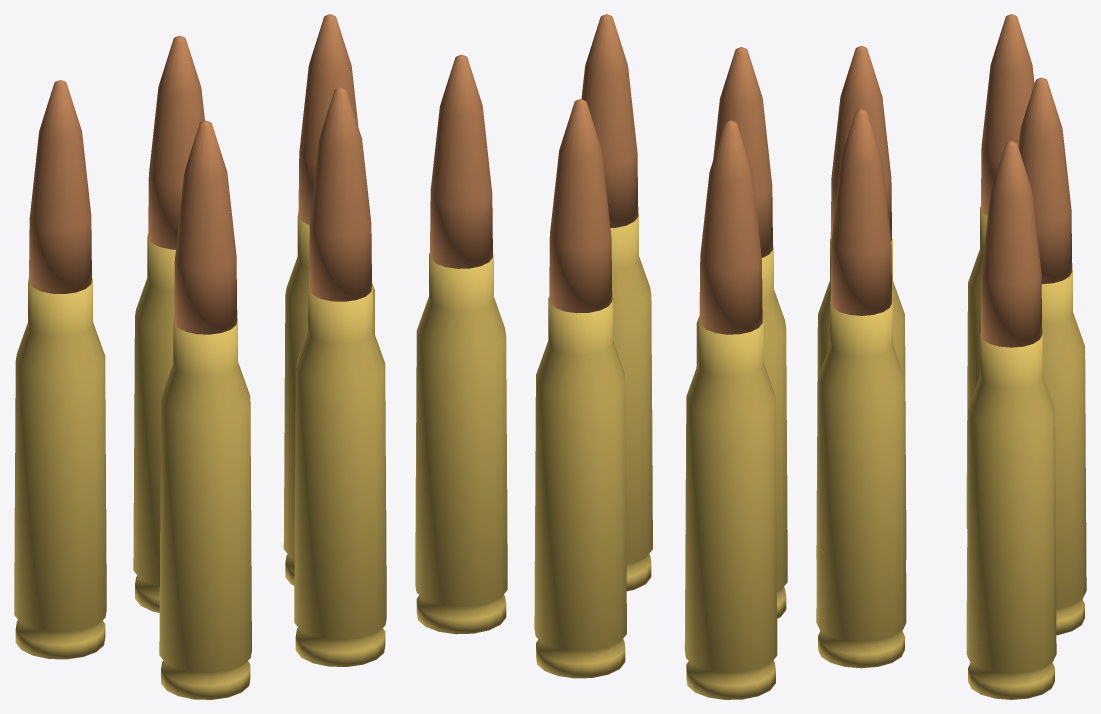
Rendered from rounds.glb.
3 views of the same model, side by side, from view 1: azimuth 30°, elevation 25°; view 2: azimuth 150°, elevation 25°; view 3: azimuth 270°, elevation 25° (orthographic). The views are drawn at different scales.
Visible parts, largest first — view 1: case.004, case, case.003, case.001, bullet.003, bullet.004, bullet, bullet.001, bullet.002, case.002; view 2: case.002, case, case.001, case.004, bullet, bullet.001, bullet.002, bullet.004, bullet.003, case.003; view 3: case.004, case.002, case.001, bullet.002, bullet.004, bullet.001, bullet, bullet.003, case, case.003.
Part boxes in pixels (left/top/right/bottom): case.004: left=294, top=286, right=386, bottom=666; case: left=14, top=278, right=106, bottom=659; case.003: left=159, top=318, right=251, bottom=699; case.001: left=133, top=233, right=175, bottom=612; bullet.003: left=174, top=120, right=237, bottom=334; bullet.004: left=309, top=87, right=371, bottom=301; bullet: left=29, top=80, right=91, bottom=293; bullet.001: left=148, top=35, right=204, bottom=249; bullet.002: left=298, top=14, right=358, bottom=224; case.002: left=283, top=212, right=374, bottom=585; case.002: left=415, top=253, right=507, bottom=634; case: left=684, top=319, right=777, bottom=699; case.001: left=534, top=297, right=626, bottom=678; case.004: left=610, top=213, right=652, bottom=591; bullet: left=699, top=120, right=762, bottom=334; bullet.001: left=549, top=99, right=612, bottom=313; bullet.002: left=430, top=54, right=492, bottom=268; bullet.004: left=581, top=14, right=638, bottom=227; bullet.003: left=713, top=47, right=772, bottom=257; case.003: left=696, top=245, right=787, bottom=618; case.004: left=816, top=301, right=906, bottom=668; case.002: left=966, top=333, right=1056, bottom=699; case.001: left=1041, top=270, right=1086, bottom=635; bullet.002: left=981, top=141, right=1042, bottom=347; bullet.004: left=830, top=109, right=891, bottom=315; bullet.001: left=1018, top=77, right=1072, bottom=284; bullet: left=981, top=14, right=1034, bottom=215; bullet.003: left=830, top=45, right=891, bottom=240; case: left=966, top=206, right=987, bottom=528; case.003: left=816, top=238, right=906, bottom=559.
Bounding box in the file's own units: 0.052 × 0.0795 × 0.036.
